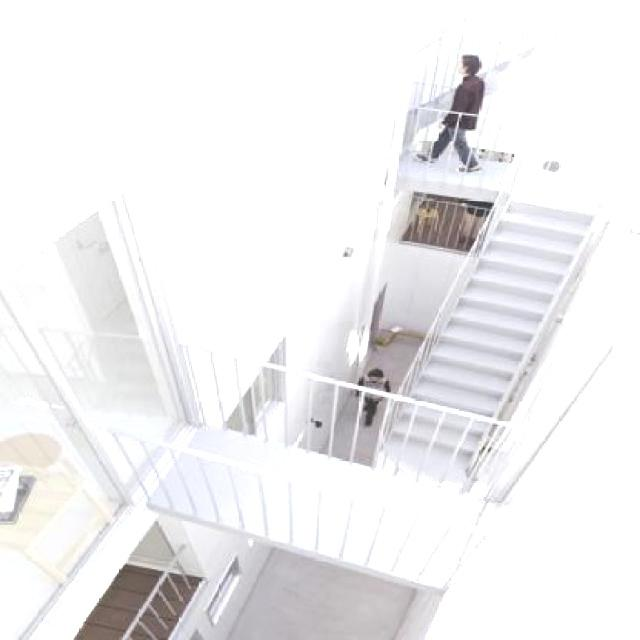stair: (371, 184, 640, 493)
